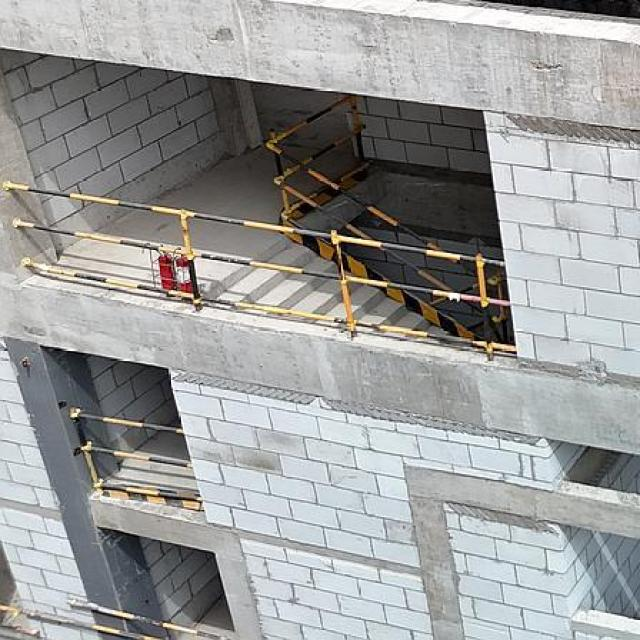edge_guardrail: (3, 182, 517, 362), (68, 408, 202, 503), (0, 597, 233, 640)
